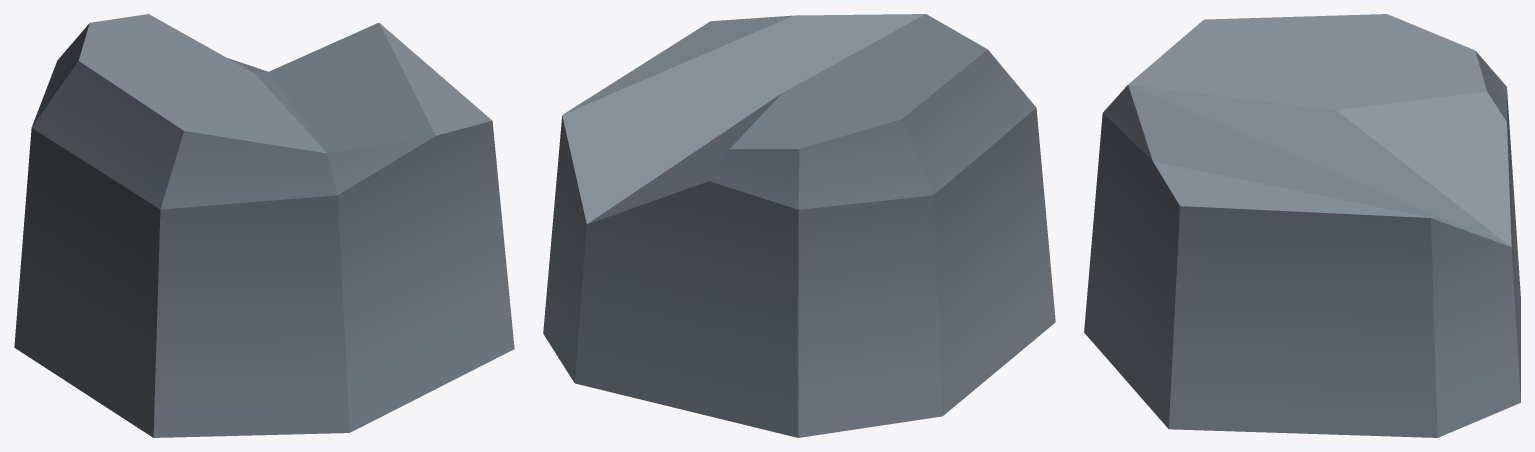
The model's file is Ore_01_2.fbx.
3 renders of one model, left to right at view 1: azimuth 30°, elevation 25°; view 2: azimuth 150°, elevation 25°; view 3: azimuth 270°, elevation 25°, orthographic. The views are drawn at different scales.
Visible parts, largest first — view 1: Ore_01_2; view 2: Ore_01_2; view 3: Ore_01_2.
Boxes of the visible parts, x1,y1,x2,y2 form: Ore_01_2: [14, 14, 514, 437]; Ore_01_2: [543, 14, 1055, 437]; Ore_01_2: [1084, 14, 1520, 437].
Size of the model in its own units: 1.44 by 0.9921 by 1.47.
